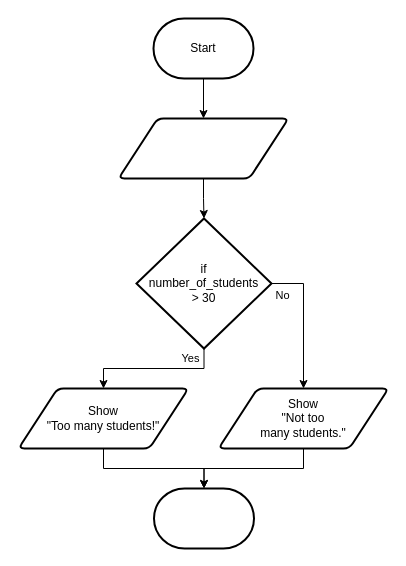
Image size: 406x566. Some labels were removed from this diagram. Each missing label, with the centre of its shape:
"Get number_of_students" belongs at pixel 203 148.
"Stop" belongs at pixel 203 518.
